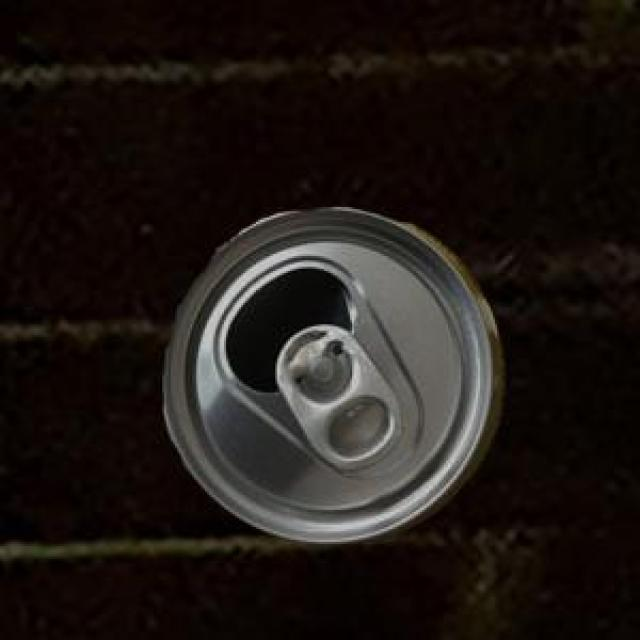logam: (161, 206, 498, 541)
